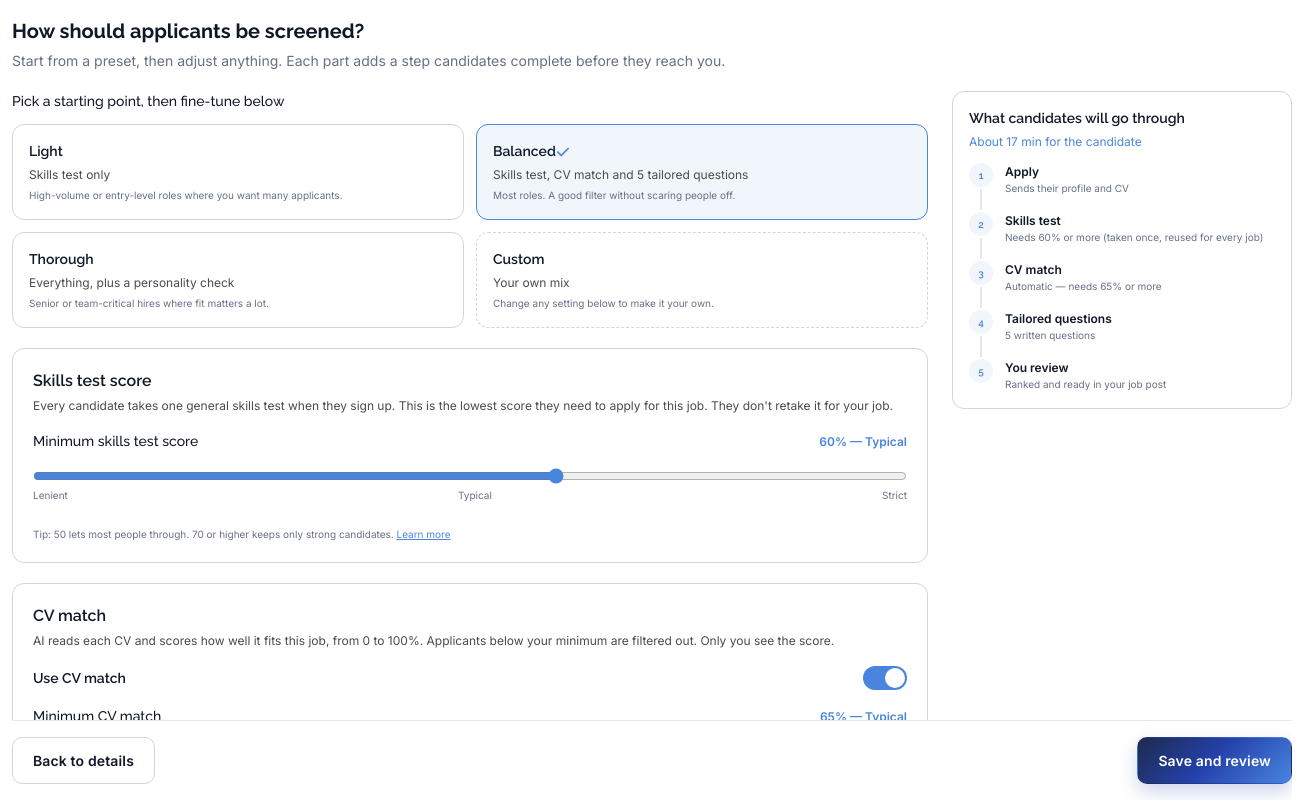
Test: AiConfig (screening step) › switches to Custom once a setting is changed
The width and height of the screenshot is (1304, 800).
Set the slider labelled "Minimum skills test score" to "85". click: (770, 476)
box: [33,468,907,484]
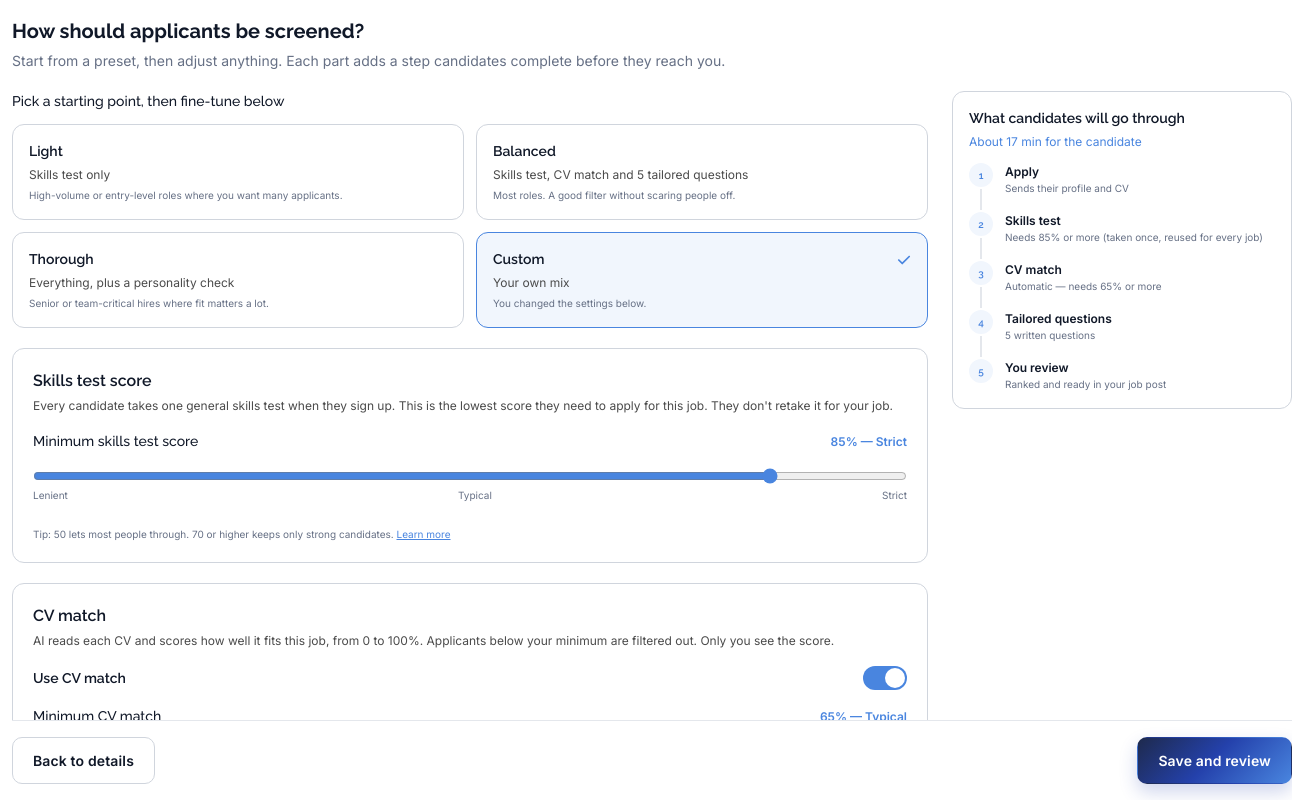
Result: the text "You changed the settings below." is shown at [493,297,646,309]
